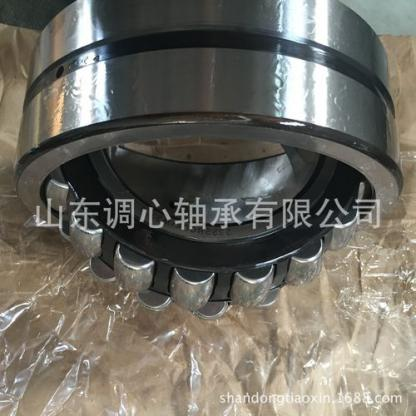FOD: (8, 0, 411, 320)
